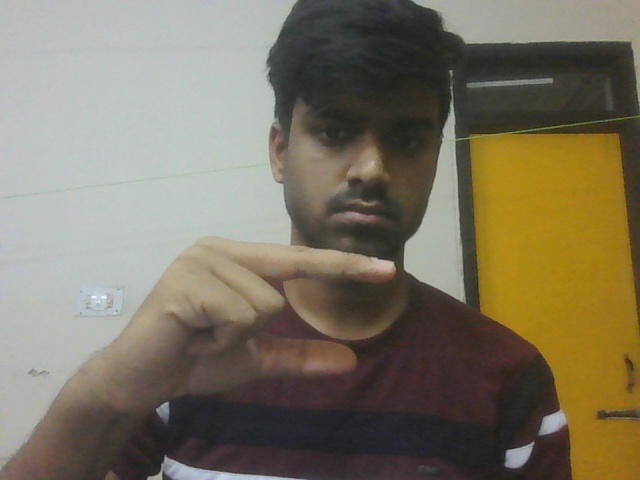no: (53, 227, 402, 424)
